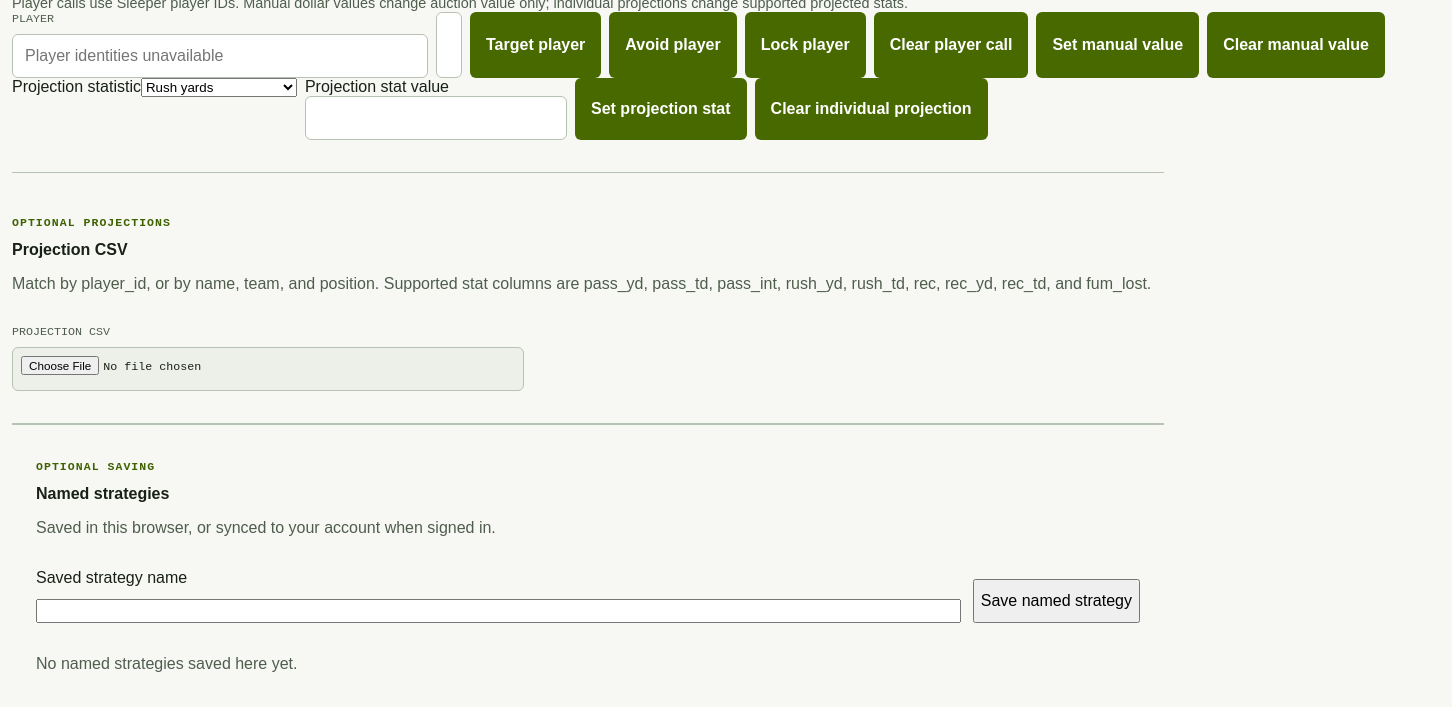
StrategyBuilder › saves and reloads a named strategy in guest mode
(page scrolled)
Type "Sunday plan" into the field labelled "Saved strategy name".
click(498, 611); type("Sunday plan")  # box [36, 599, 961, 623]
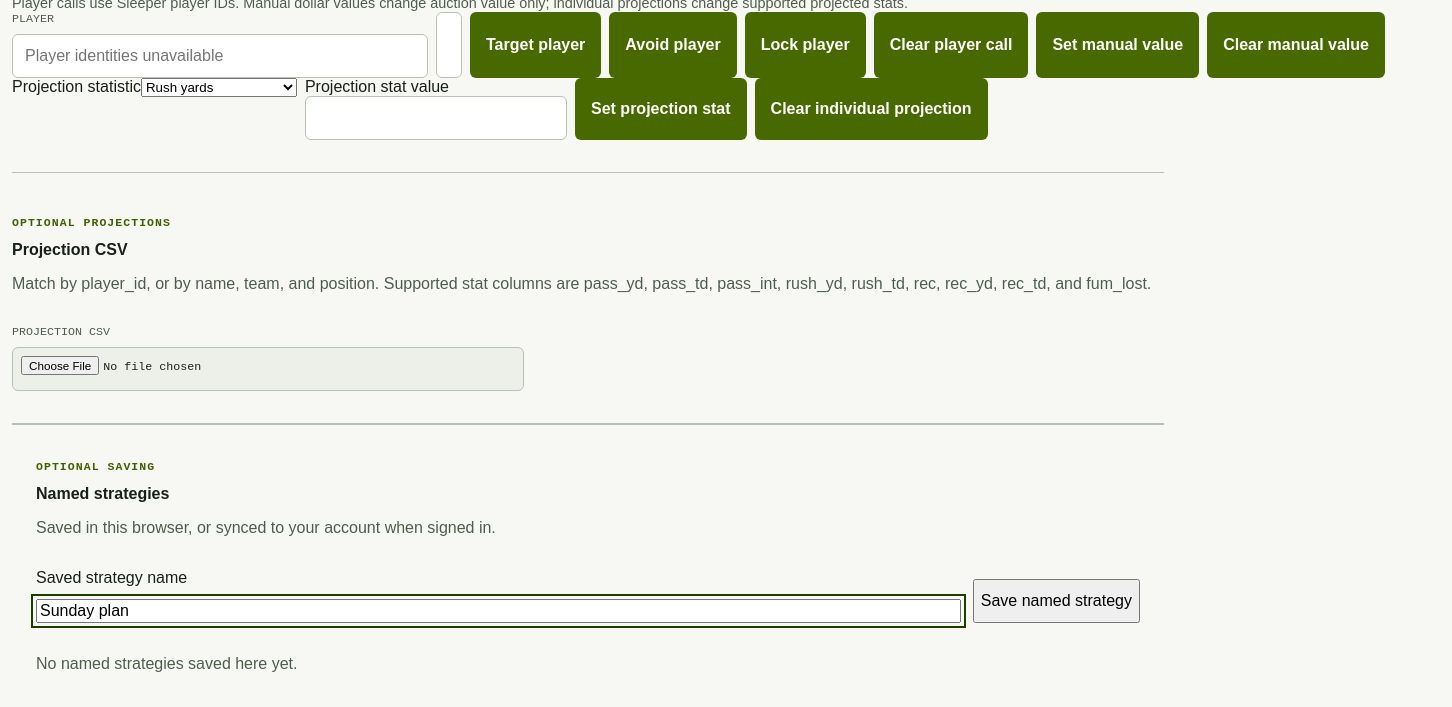
Click the button "Save named strategy".
click(1056, 601)  # box [973, 579, 1140, 623]
(page scrolled)
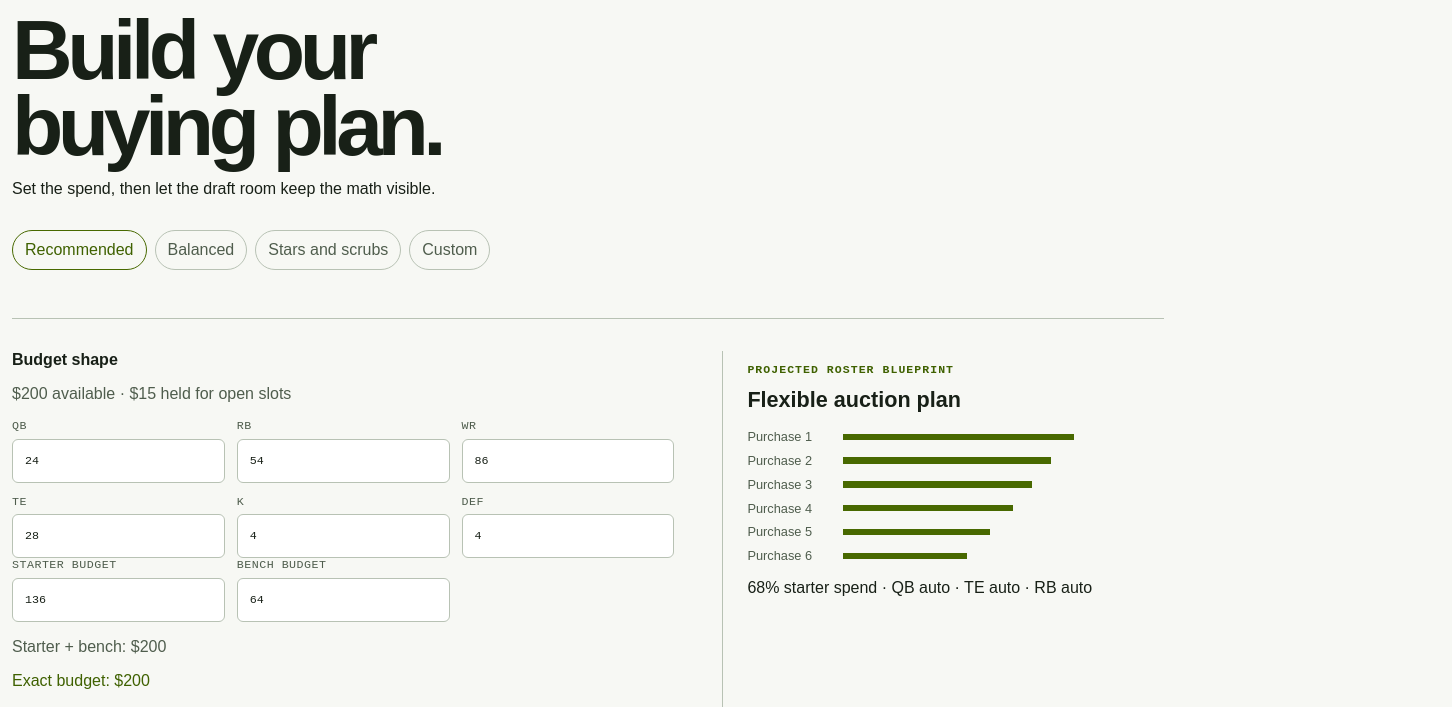
Click the button "Stars and scrubs".
click(328, 250)  # box [255, 230, 401, 270]
(page scrolled)
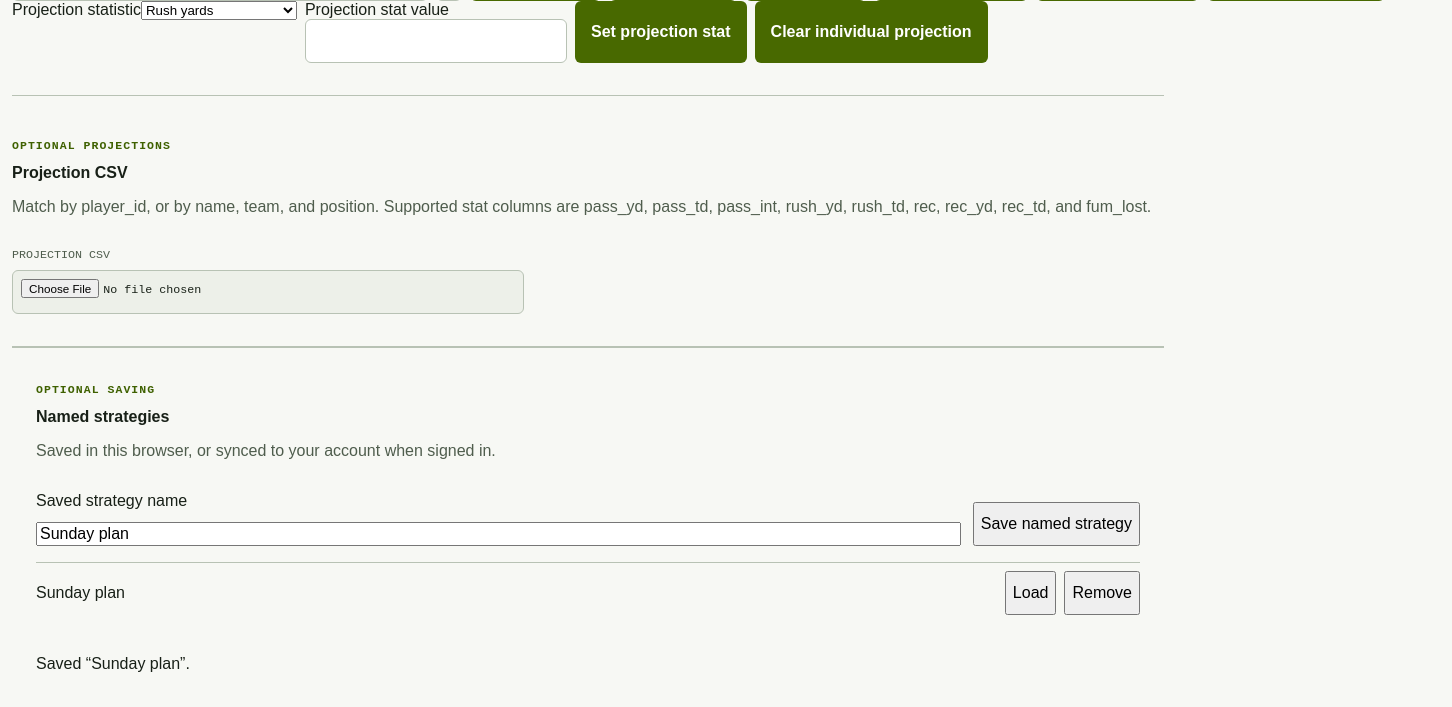
Click the button with aria-label "Load Sunday plan".
click(1031, 593)  # box [1005, 571, 1056, 615]
(page scrolled)
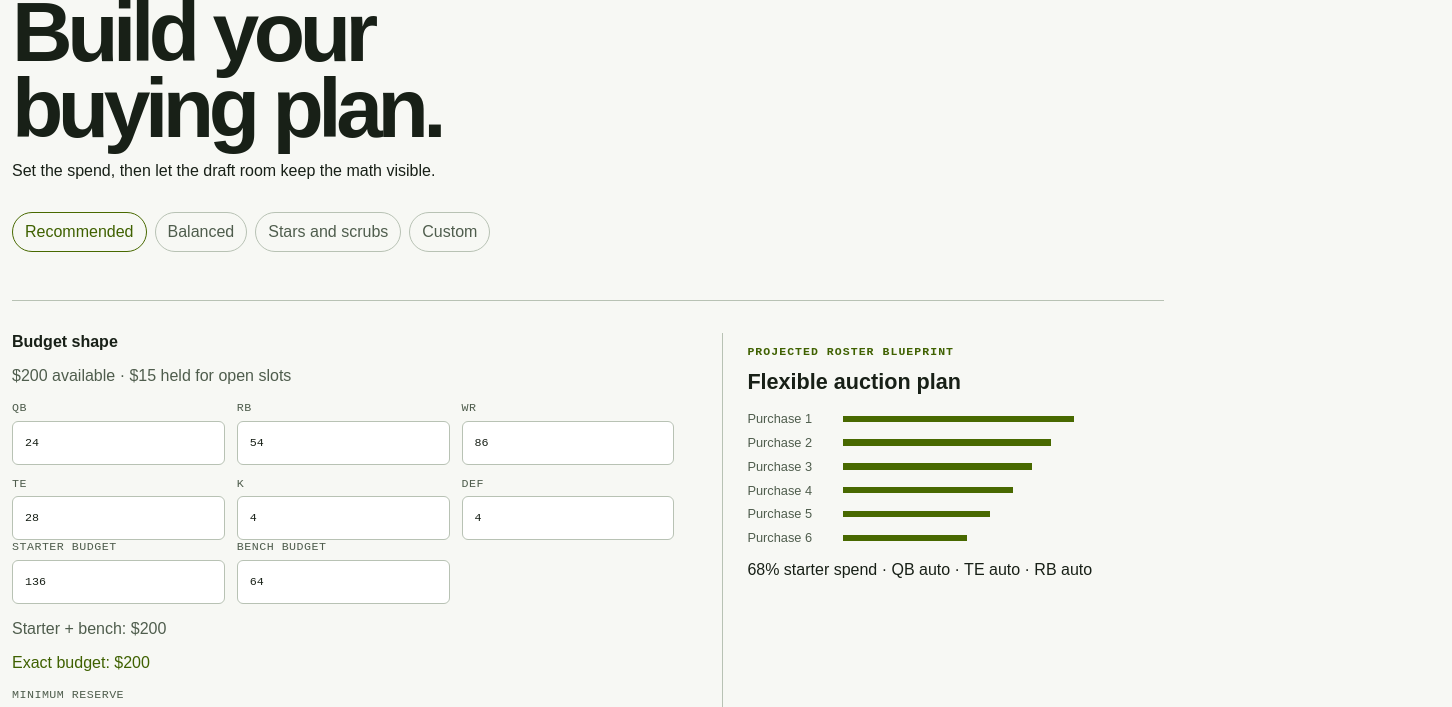
Now the text "Flexible auction plan" is shown, box [747, 369, 961, 394]
